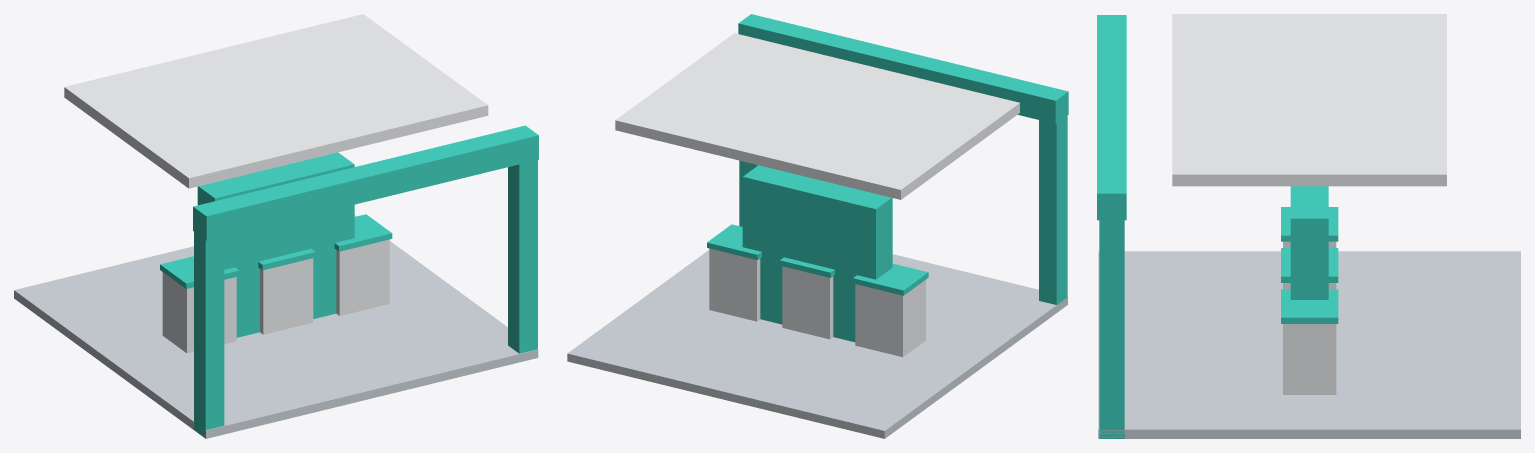
The picture shows the model from 3 angles, left to right: view 1: azimuth 30°, elevation 25°; view 2: azimuth 150°, elevation 25°; view 3: azimuth 270°, elevation 25°; orthographic projection. The views are drawn at different scales.
Parts seen in each view (by area): view 1: Exhibition Booth Concept; view 2: Exhibition Booth Concept; view 3: Exhibition Booth Concept.
Boxes of the visible parts, x1=… form: Exhibition Booth Concept: x1=14, y1=14, x2=538, y2=438; Exhibition Booth Concept: x1=567, y1=14, x2=1068, y2=438; Exhibition Booth Concept: x1=1097, y1=14, x2=1520, y2=438.
Bounding box in the file's own units: 5 × 3.34 × 5.02.
